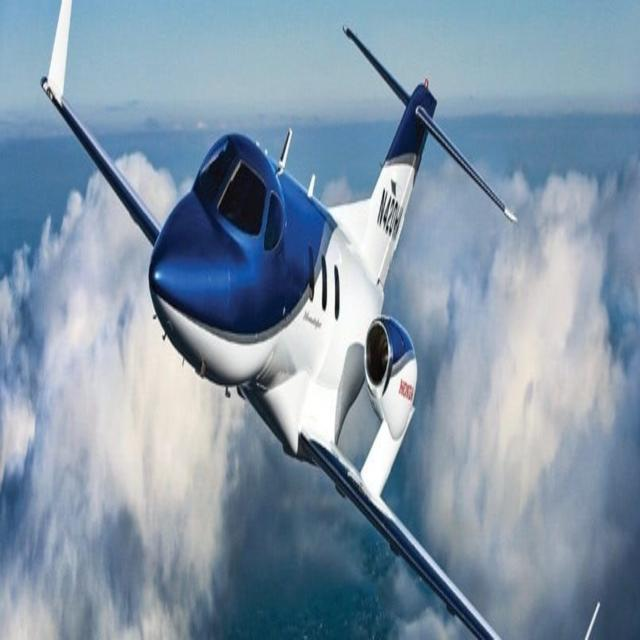jet: (21, 0, 557, 637)
